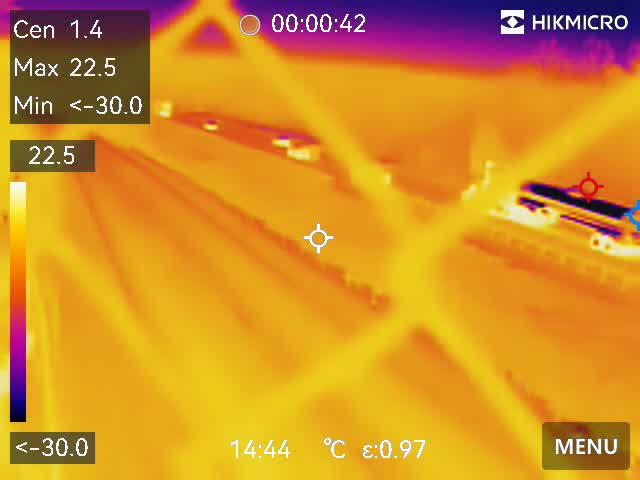heavyTruck: (462, 160, 640, 257)
vehicle: (286, 145, 323, 162), (270, 132, 295, 147), (205, 120, 222, 131)
